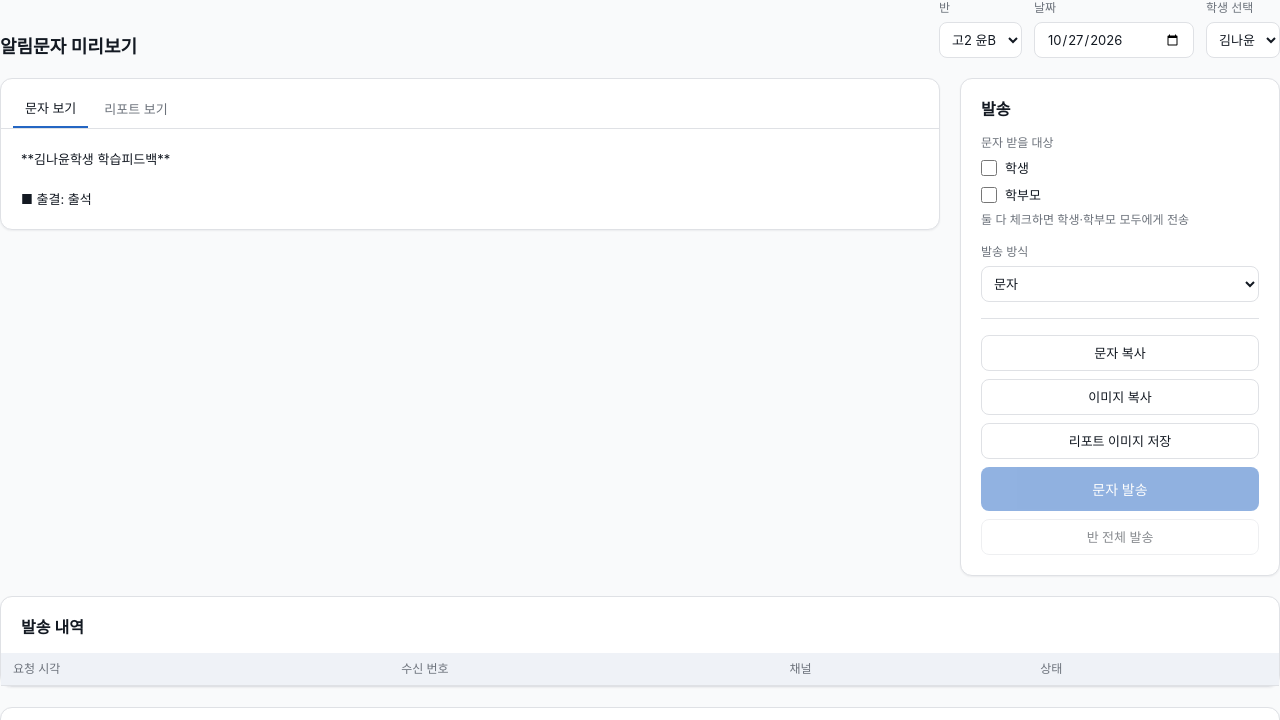
Test: previews the class batch with planned and skipped students
The width and height of the screenshot is (1280, 720).
Expected: the button "반 전체 발송" is shown, top-left (981, 519), bottom-right (1259, 555)
Click the checkbox labelled "학부모".
click(989, 195)  # box top-left (981, 187), bottom-right (997, 203)
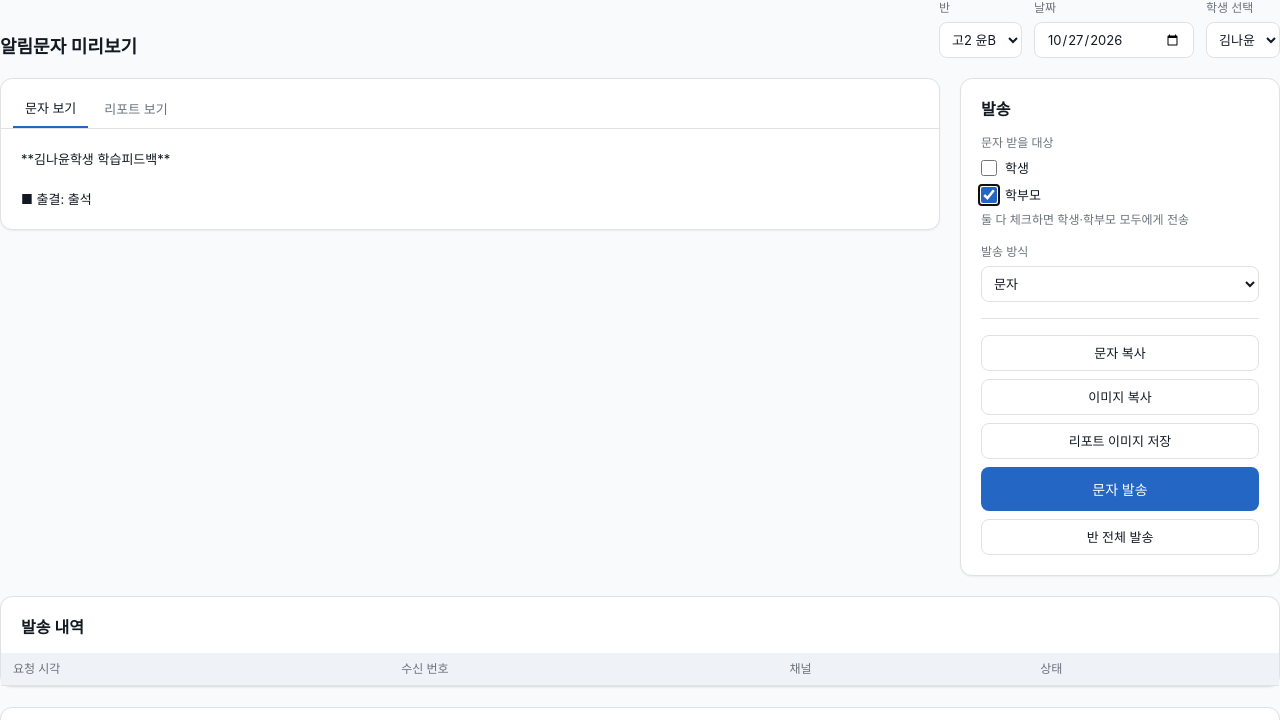
Click the button "반 전체 발송".
click(1120, 537)  # box top-left (981, 519), bottom-right (1259, 555)
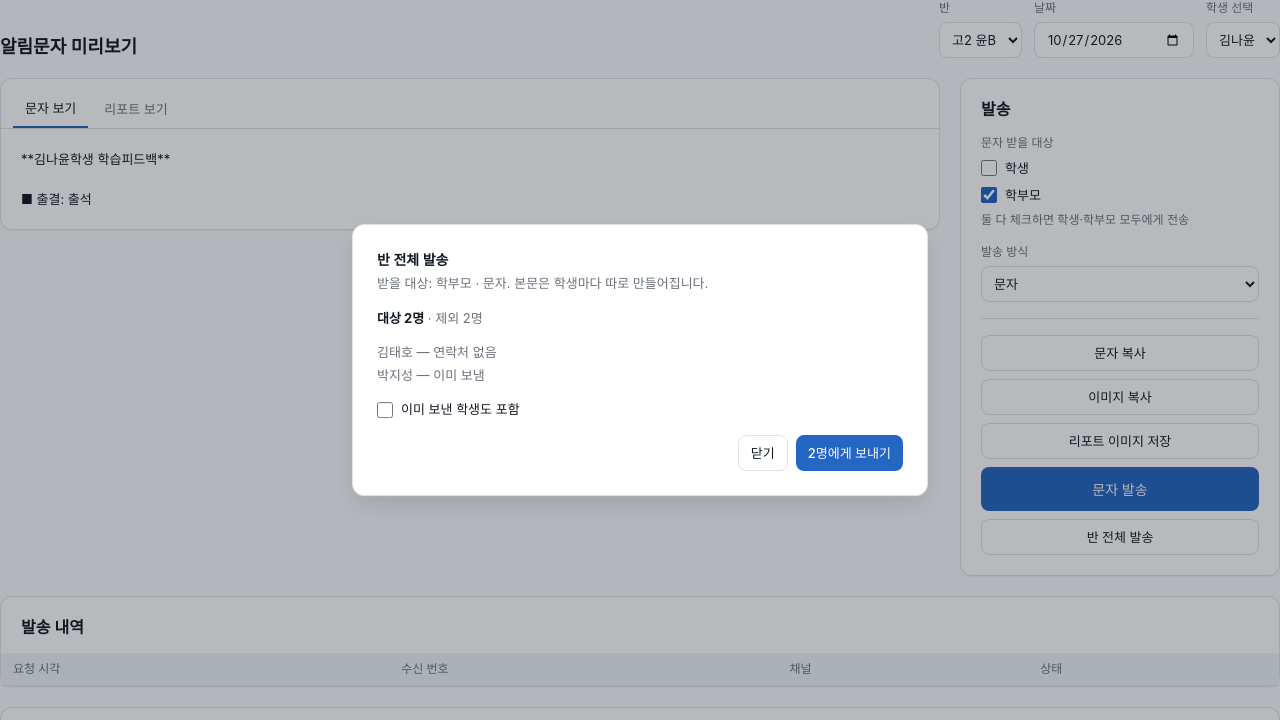
Result: the text "대상 2명" is shown at top-left (377, 310), bottom-right (424, 326)
Result: the list item "김태호 — 연락처 없음" is shown at top-left (377, 344), bottom-right (497, 360)
Result: the list item "박지성 — 이미 보냄" is shown at top-left (377, 367), bottom-right (485, 383)
